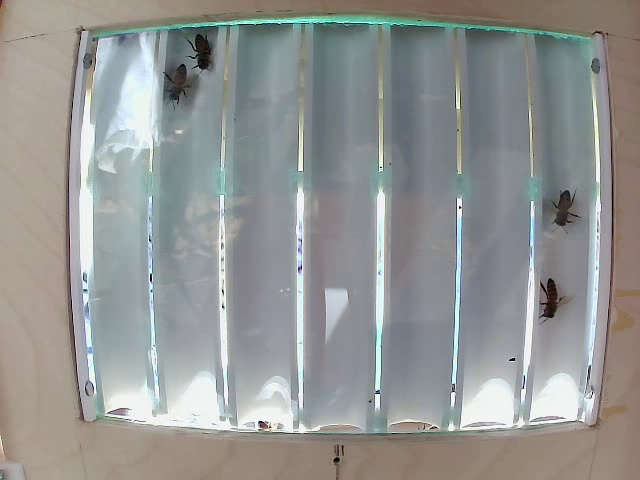bee: (158, 59, 196, 115), (194, 33, 234, 75), (532, 267, 561, 320), (551, 179, 582, 223)
